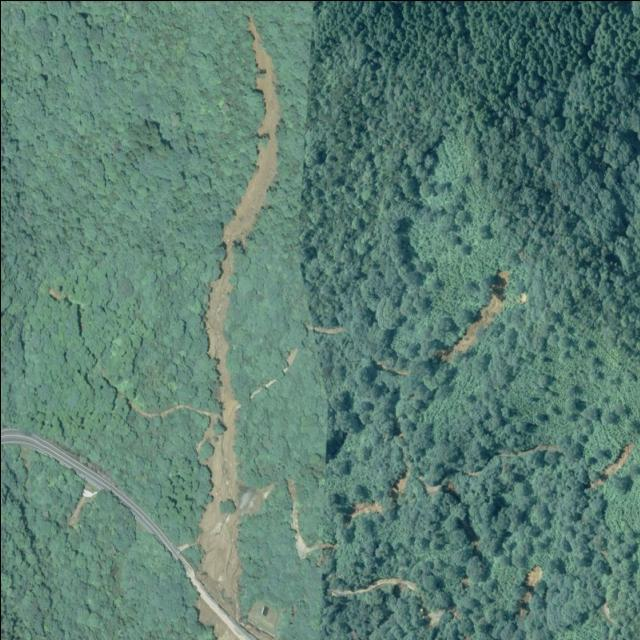landslide: (195, 15, 279, 619)
